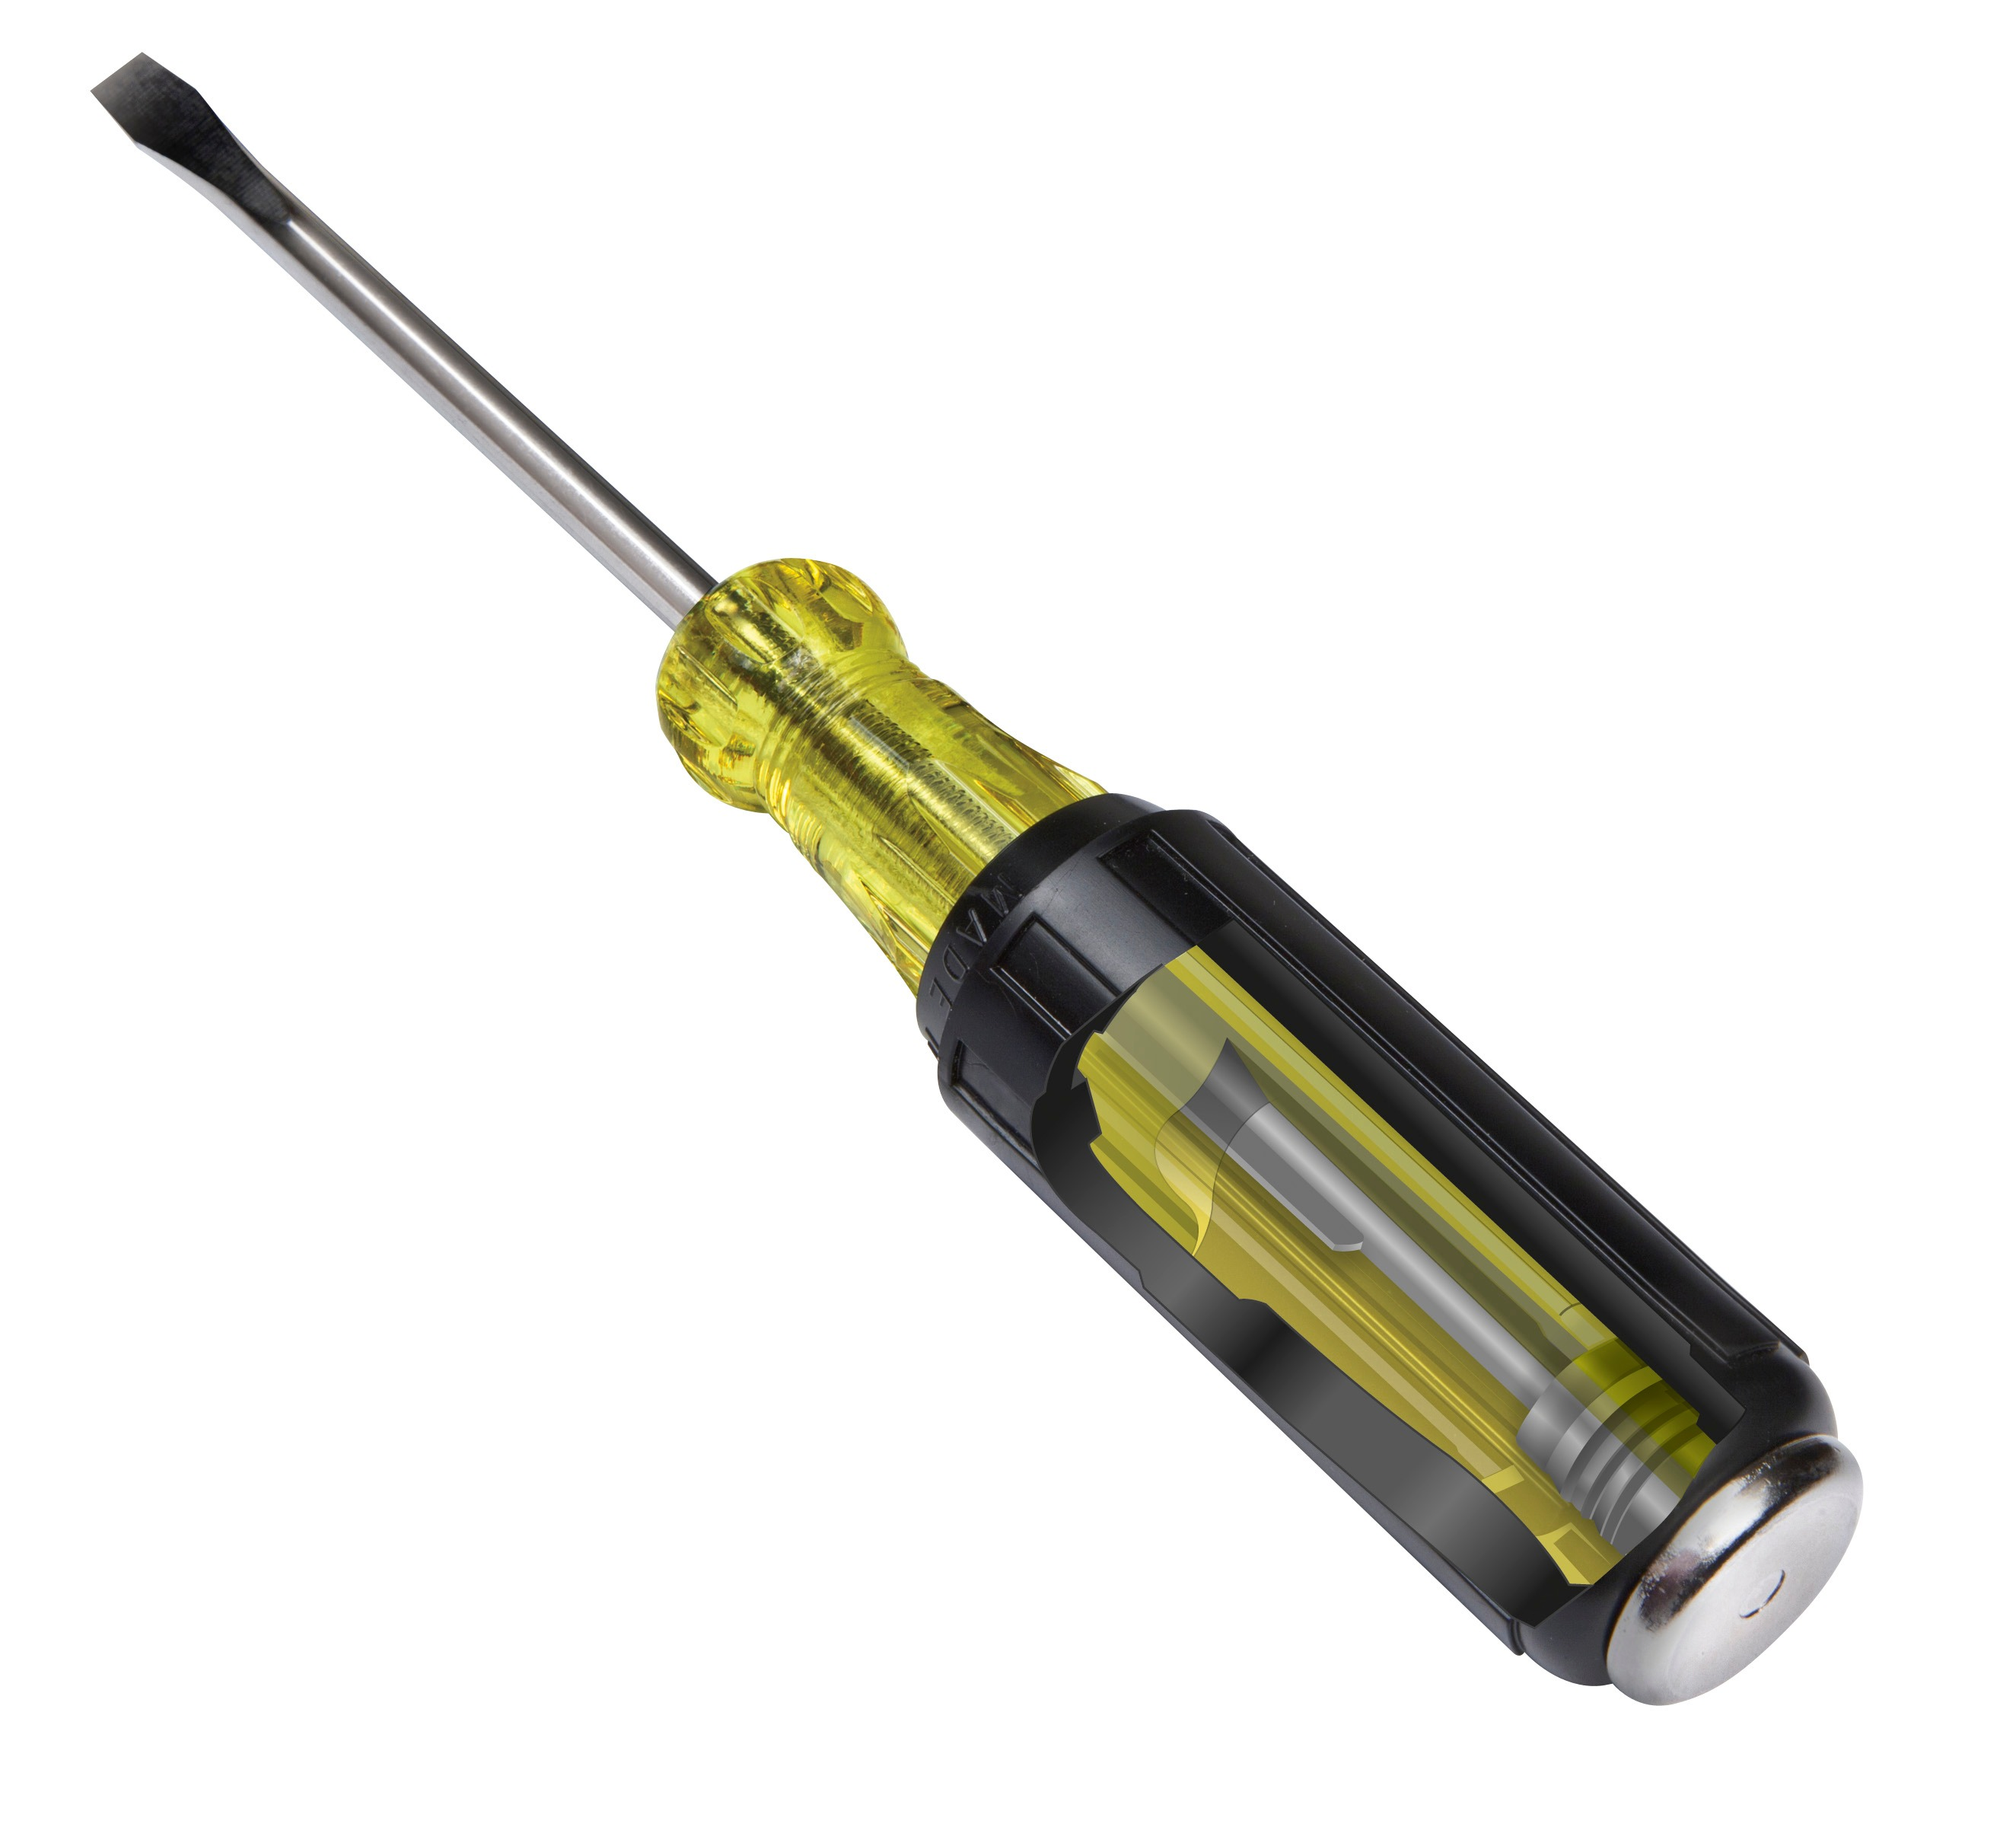screwdriver: (65, 51, 1874, 1730)
